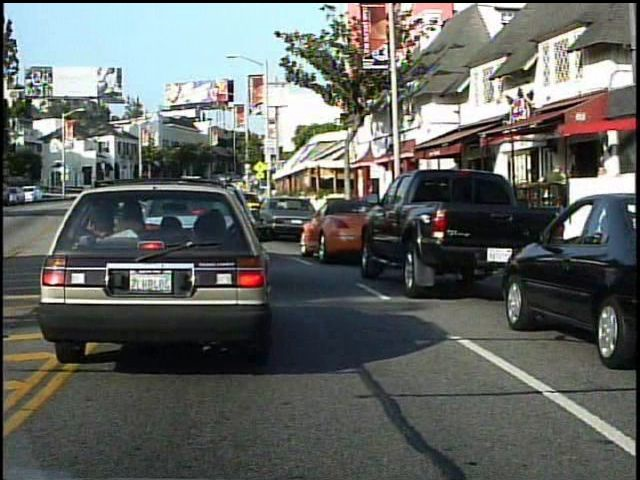person: (542, 159, 569, 228)
